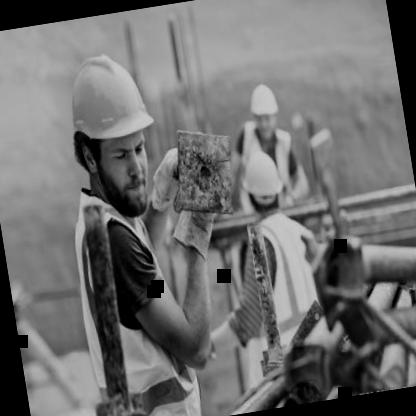helmet: (53, 37, 175, 227), (236, 146, 291, 222), (243, 78, 284, 143)
